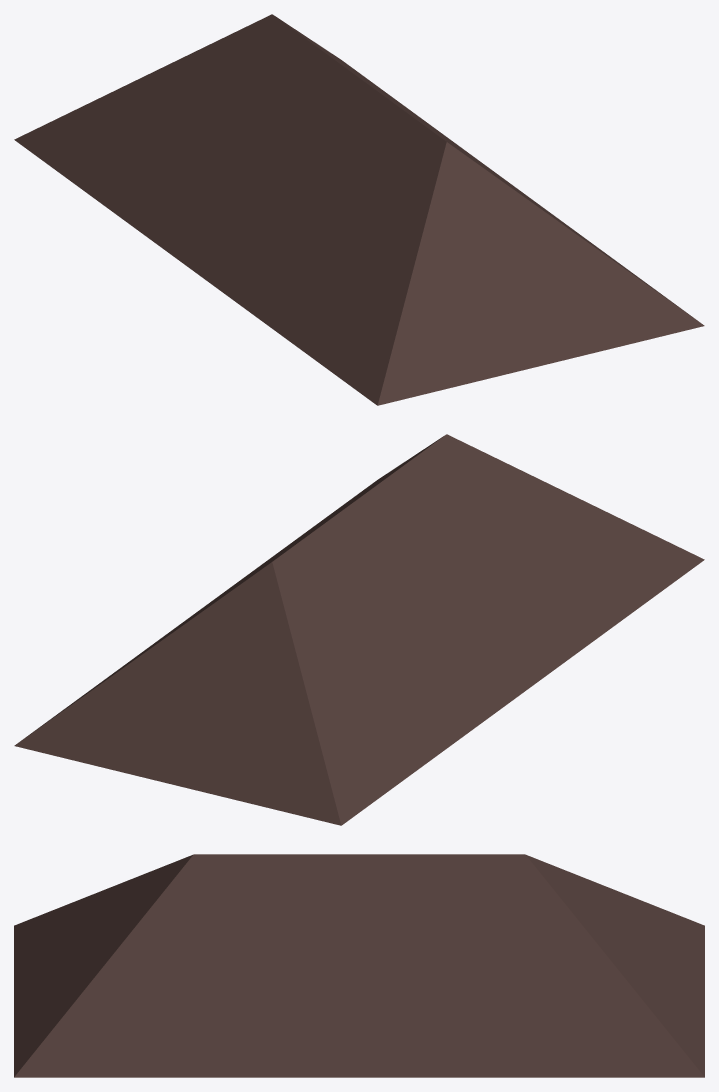
The model's file is port_cargo1_far.fbx.
3 views of the same model, one above another, from view 1: azimuth 30°, elevation 25°; view 2: azimuth 150°, elevation 25°; view 3: azimuth 270°, elevation 25° (orthographic). The views are drawn at different scales.
Parts seen in each view (by area): view 1: a401_0_port_cargo1_far; view 2: a401_0_port_cargo1_far; view 3: a401_0_port_cargo1_far.
Boxes of the visible parts, x1,y1,x2,y2 form: a401_0_port_cargo1_far: [14, 14, 704, 405]; a401_0_port_cargo1_far: [14, 434, 704, 825]; a401_0_port_cargo1_far: [14, 854, 704, 1077].
Bounding box in the file's own units: 5.2 × 2.35 × 10.
